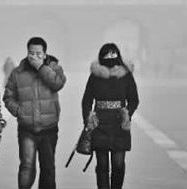person: (1, 35, 68, 189), (76, 41, 142, 189), (3, 57, 15, 84)
